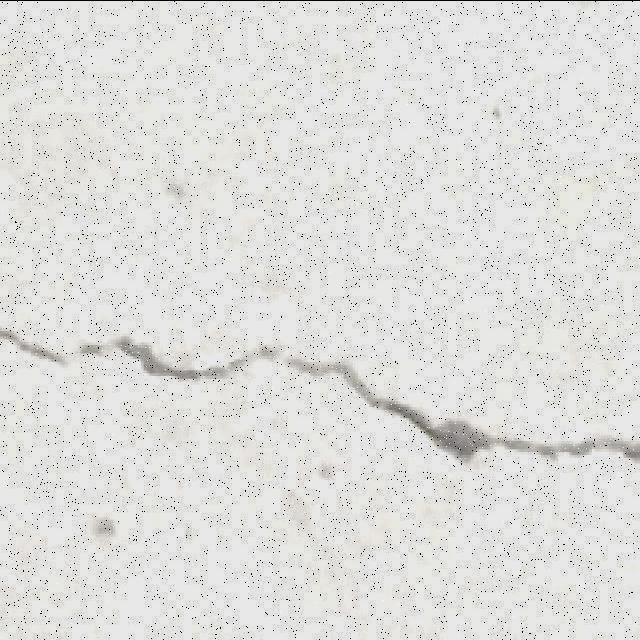crack: (1, 324, 638, 465), (5, 328, 267, 380)
